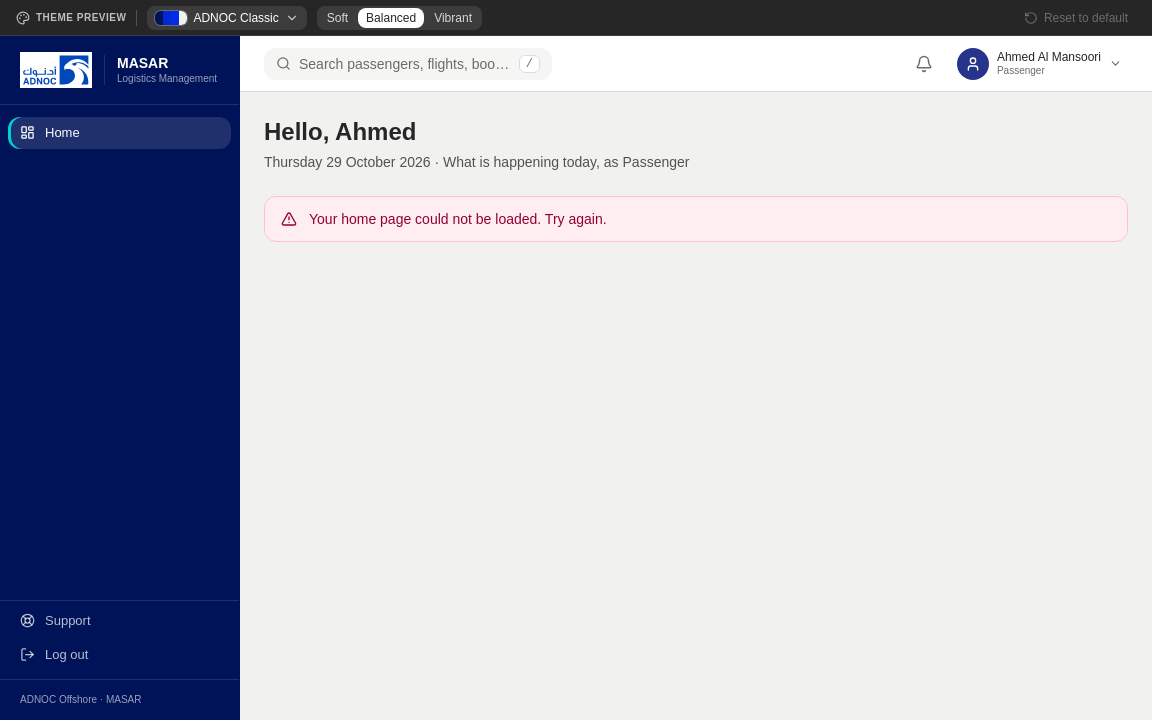
Scenario: PROMPT-4.2 web shell › PROMPT-2.6 the user menu offers Change password to external users only
This screenshot has width=1152, height=720.
Click the button with aria-label "Your account menu": coordinates (1039, 64) [951,44,1128,82]
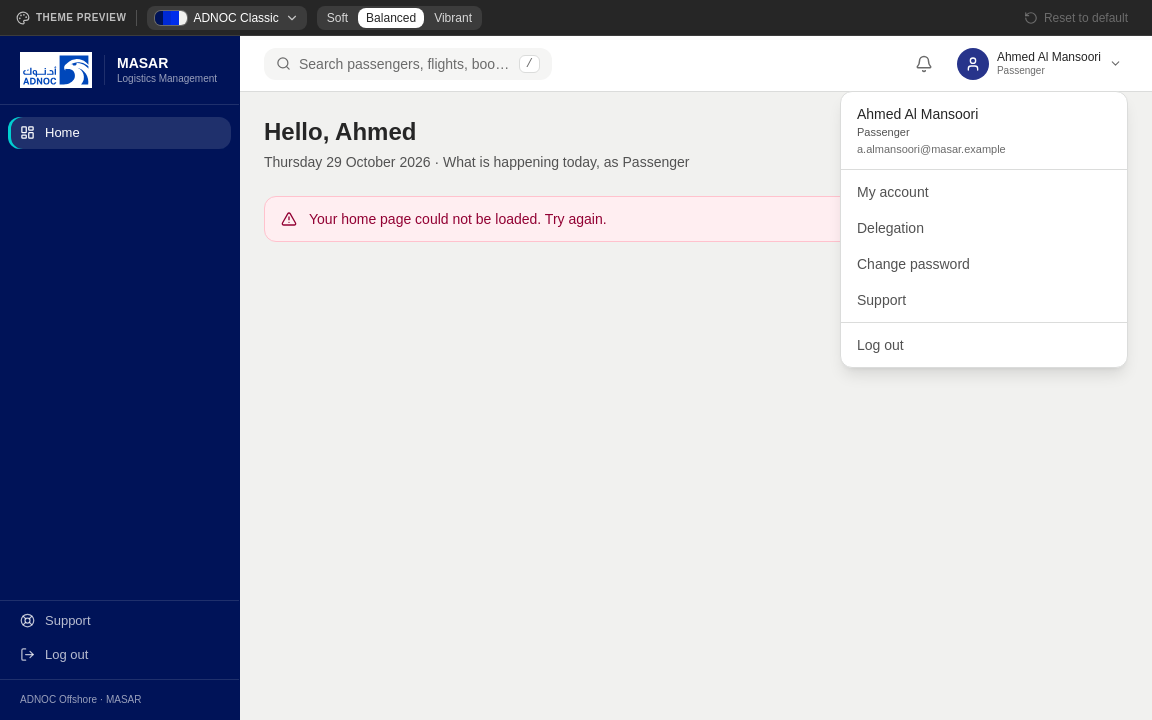
Expected: the menu item "Change password" is shown, [857,256,970,272]
